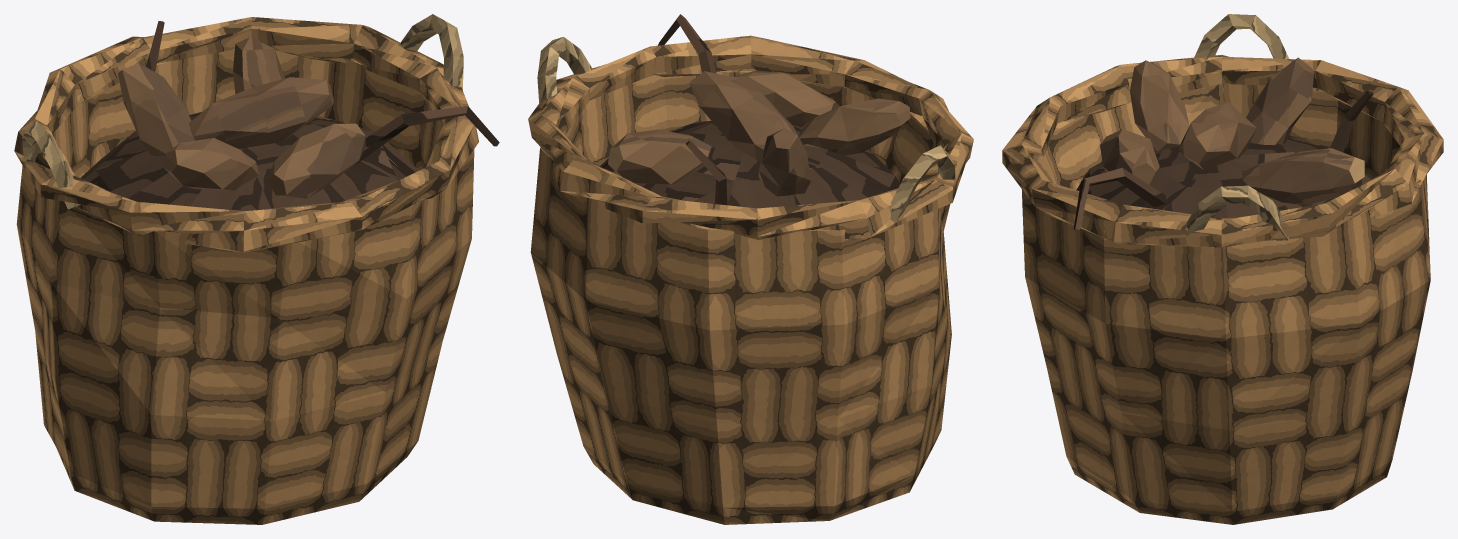
Rendered from SM_WovenBasket.fbx.
3 views of the same model, side by side, from view 1: azimuth 30°, elevation 25°; view 2: azimuth 150°, elevation 25°; view 3: azimuth 270°, elevation 25° (orthographic). The views are drawn at different scales.
Visible parts, largest first — view 1: SM_WovenBasket; view 2: SM_WovenBasket; view 3: SM_WovenBasket.
Boxes of the visible parts, x1,y1,x2,y2 form: SM_WovenBasket: (14,14,499,524); SM_WovenBasket: (528,14,973,524); SM_WovenBasket: (1002,14,1443,524).
Size of the model in its own units: 0.5333 by 0.4667 by 0.5108.
